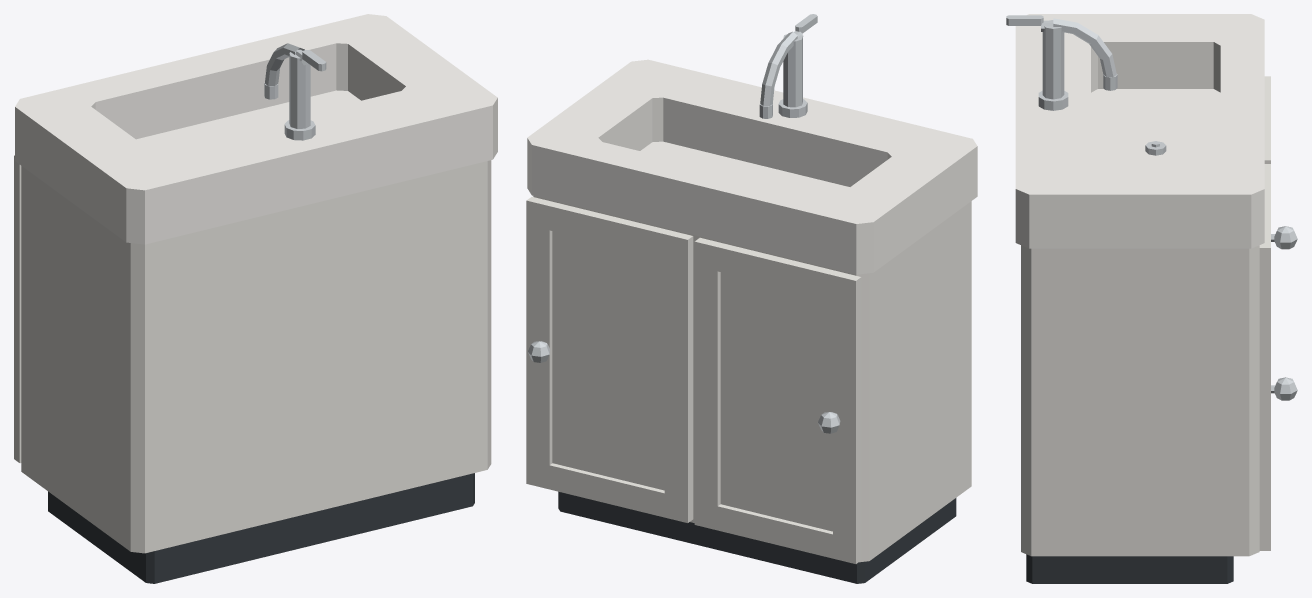
File: SM_LPI_Bath_Vanity_01.fbx
The picture shows the model from 3 angles, left to right: view 1: azimuth 30°, elevation 25°; view 2: azimuth 150°, elevation 25°; view 3: azimuth 270°, elevation 25°; orthographic projection. The views are drawn at different scales.
Parts seen in each view (by area): view 1: SM_LPI_Bath_Vanity_01; view 2: SM_LPI_Bath_Vanity_01; view 3: SM_LPI_Bath_Vanity_01.
Boxes of the visible parts, x1,y1,x2,y2 form: SM_LPI_Bath_Vanity_01: (14, 14, 497, 583); SM_LPI_Bath_Vanity_01: (526, 14, 977, 583); SM_LPI_Bath_Vanity_01: (1006, 14, 1297, 583).
Bounding box in the file's own units: 0.824 × 1.04 × 0.5621.
